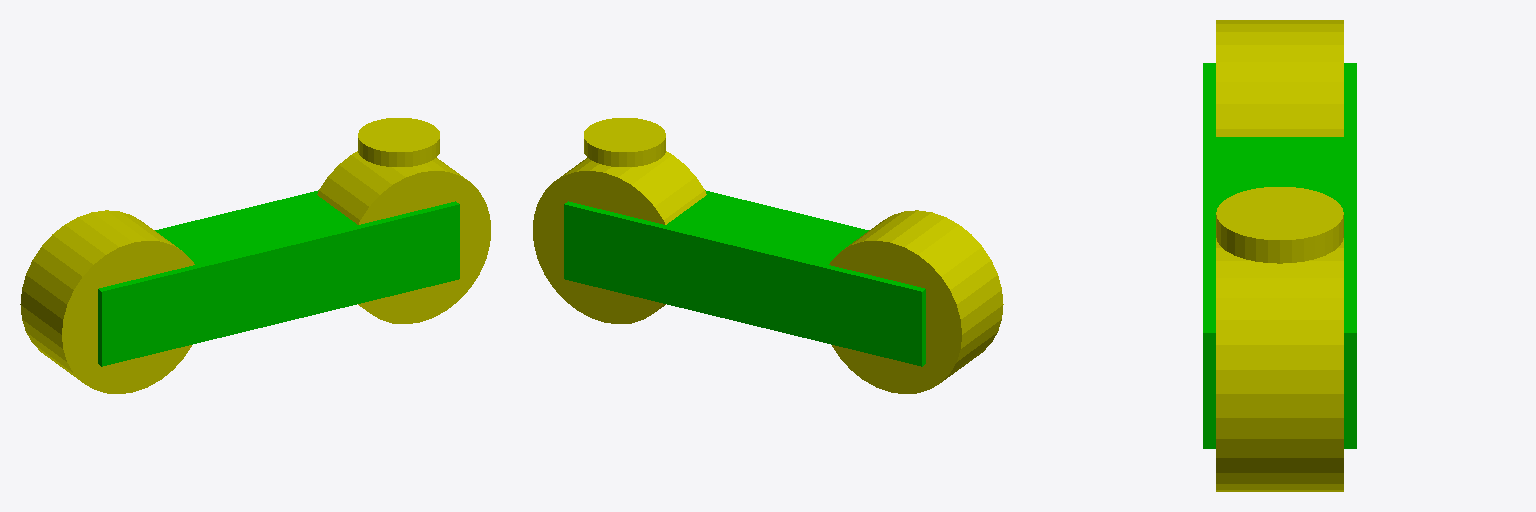
URDF robot description (bicycle_bot):
<?xml version="1.0" encoding="utf-8"?>
<!-- =================================================================================== -->
<!-- |    This document was autogenerated by xacro from [local-path]/github/steerbot_ws/src/steer_bot/steer_bot_description/urdf/bicycle_bot.urdf.xacro | -->
<!-- |    EDITING THIS FILE BY HAND IS NOT RECOMMENDED                                 | -->
<!-- =================================================================================== -->
<!--
  Robot model adapted from https://github.com/CIR-KIT/steer_drive_ros/blob/kinetic-devel/steer_drive_controller/test/common/urdf/steerbot.xacro

  Modifications:
    Remove base_footprint link. Useful for navigation but not necessary for a simple example.
    Added materials for URDF
    Updated inertials

  Geometry:
    The Ackermann steering controllers require the longitudinal
    separation between the front and back wheel axes and the
    lateral separation between the left and right front steering axes.
    
    For this model:
    wheel_separation_h = base_length - 2 * axle_offset = 0.4
    wheel_separation_w = base_width  + 2 * axle_offset = 0.4
-->
<robot name="bicycle_bot">
  <material name="red">
    <color rgba="0.8 0 0 1"/>
  </material>
  <material name="green">
    <color rgba="0 0.8 0 1"/>
  </material>
  <material name="blue">
    <color rgba="0 0 0.8 1"/>
  </material>
  <material name="yellow">
    <color rgba="0.8 0.8 0 1"/>
  </material>
  <material name="orange">
    <color rgba="0.8 0.25 0 1"/>
  </material>
  <material name="black">
    <color rgba="0 0 0 1"/>
  </material>
  <material name="dark_gray">
    <color rgba="0.5 0.5 0.5 1"/>
  </material>
  <material name="gray">
    <color rgba="0.753 0.753 0.753 1"/>
  </material>
  <material name="silver">
    <color rgba="0.88 0.88 0.88 1"/>
  </material>
  <material name="white">
    <color rgba="1 1 1 1"/>
  </material>
  <!-- Gazebo plugins -->
  <gazebo>
    <!-- Load ros_control plugin -->
    <plugin filename="libgazebo_ros_control.so" name="gazebo_ros_control">
      <robotNamespace>/bicycle_bot</robotNamespace>
      <robotSimType>gazebo_ros_control/DefaultRobotHWSim</robotSimType>
      <legacyModeNS>false</legacyModeNS>
    </plugin>
    <!-- Load gazebo_ros plugin. Publish passive (non-actuated) joints from Gazebo -->
    <plugin filename="libgazebo_ros_joint_state_publisher.so" name="gazebo_ros_joint_state_publisher">
      <robotNamespace>/bicycle_bot</robotNamespace>
      <jointName>
            front_wheel_joint
        </jointName>
      <updateRate>50</updateRate>
      <alwaysOn>true</alwaysOn>
    </plugin>
  </gazebo>
  <!-- Base link -->
  <link name="base_link">
    <visual>
      <origin rpy="0 0 0" xyz="0 0 0"/>
      <geometry>
        <box size="0.5 0.12 0.1"/>
      </geometry>
      <material name="green"/>
    </visual>
    <collision>
      <origin rpy="0 0 0" xyz="0 0 0"/>
      <geometry>
        <box size="0.5 0.12 0.1"/>
      </geometry>
    </collision>
    <inertial>
      <origin rpy="0 0 0" xyz="0 0 0"/>
      <mass value="5"/>
      <inertia ixx="0.0101666666667" ixy="0.0" ixz="0.0" iyy="0.108333333333" iyz="0.0" izz="0.110166666667"/>
    </inertial>
  </link>
  <link name="front_steer_link">
    <visual>
      <origin rpy="0 0 0" xyz="0 0 0"/>
      <geometry>
        <cylinder length="0.02" radius="0.05"/>
      </geometry>
      <material name="yellow"/>
    </visual>
    <collision>
      <origin rpy="0 0 0" xyz="0 0 0"/>
      <geometry>
        <cylinder length="0.02" radius="0.05"/>
      </geometry>
    </collision>
    <inertial>
      <origin rpy="0 0 0" xyz="0 0 0"/>
      <mass value="1"/>
      <inertia ixx="0.000658333333333" ixy="0.0" ixz="0.0" iyy="0.000658333333333" iyz="0.0" izz="0.00125"/>
    </inertial>
  </link>
  <joint name="front_steer_joint" type="revolute">
    <parent link="base_link"/>
    <child link="front_steer_link"/>
    <origin rpy="0 0 0" xyz="0.2 0 0.12"/>
    <axis xyz="0 0 1"/>
    <limit effort="10.0" lower="-3.14159265359" upper="3.14159265359" velocity="5.0"/>
  </joint>
  <transmission name="front_steer_joint_trans">
    <type>transmission_interface/SimpleTransmission</type>
    <actuator name="front_steer_joint_motor">
      <mechanicalReduction>1</mechanicalReduction>
      <hardwareInterface>hardware_interface/PositionJointInterface</hardwareInterface>
    </actuator>
    <joint name="front_steer_joint">
      <hardwareInterface>hardware_interface/PositionJointInterface</hardwareInterface>
    </joint>
  </transmission>
  <gazebo reference="front_steer_link">
    <material>Gazebo/Yellow</material>
  </gazebo>
  <link name="front_wheel_link">
    <visual>
      <origin rpy="0 0 0" xyz="0 0 0"/>
      <geometry>
        <cylinder length="0.1" radius="0.1"/>
      </geometry>
      <material name="yellow"/>
    </visual>
    <collision>
      <origin rpy="0 0 0" xyz="0 0 0"/>
      <geometry>
        <cylinder length="0.1" radius="0.1"/>
      </geometry>
    </collision>
    <inertial>
      <origin rpy="0 0 0" xyz="0 0 0"/>
      <mass value="1"/>
      <inertia ixx="0.00333333333333" ixy="0.0" ixz="0.0" iyy="0.00333333333333" iyz="0.0" izz="0.005"/>
    </inertial>
  </link>
  <joint name="front_wheel_joint" type="continuous">
    <parent link="front_steer_link"/>
    <child link="front_wheel_link"/>
    <origin rpy="-1.57079632679 0 0" xyz="0 0 -0.12"/>
    <axis xyz="0 0 1"/>
  </joint>
  <gazebo reference="front_wheel_link">
    <material>Gazebo/Yellow</material>
  </gazebo>
  <gazebo reference="front_wheel_joint">
    <provideFeedback>true</provideFeedback>
  </gazebo>
  <link name="rear_wheel_link">
    <visual>
      <origin rpy="0 0 0" xyz="0 0 0"/>
      <geometry>
        <cylinder length="0.1" radius="0.1"/>
      </geometry>
      <material name="yellow"/>
    </visual>
    <collision>
      <origin rpy="0 0 0" xyz="0 0 0"/>
      <geometry>
        <cylinder length="0.1" radius="0.1"/>
      </geometry>
    </collision>
    <inertial>
      <origin rpy="0 0 0" xyz="0 0 0"/>
      <mass value="1"/>
      <inertia ixx="0.00333333333333" ixy="0.0" ixz="0.0" iyy="0.00333333333333" iyz="0.0" izz="0.005"/>
    </inertial>
  </link>
  <joint name="rear_wheel_joint" type="continuous">
    <parent link="base_link"/>
    <child link="rear_wheel_link"/>
    <origin rpy="-1.57079632679 0 0" xyz="-0.2 0 0"/>
    <axis xyz="0 0 1"/>
  </joint>
  <transmission name="rear_wheel_joint_trans">
    <type>transmission_interface/SimpleTransmission</type>
    <actuator name="rear_wheel_joint_motor">
      <mechanicalReduction>1</mechanicalReduction>
      <hardwareInterface>hardware_interface/VelocityJointInterface</hardwareInterface>
    </actuator>
    <joint name="rear_wheel_joint">
      <hardwareInterface>hardware_interface/VelocityJointInterface</hardwareInterface>
    </joint>
  </transmission>
  <gazebo reference="rear_wheel_link">
    <material>Gazebo/Yellow</material>
  </gazebo>
  <!-- Colour -->
  <gazebo reference="base_link">
    <material>Gazebo/Green</material>
  </gazebo>
</robot>

--- Render facts (derived) ---
The picture shows the robot from 3 angles, left to right: view 1: azimuth 30°, elevation 25°; view 2: azimuth 150°, elevation 25°; view 3: azimuth 270°, elevation 25°; orthographic projection.
Model bicycle_bot with 4 links and 3 joints (1 revolute, 2 continuous), rooted at base_link, posed all joints at 0.
Visible links, largest first — view 1: base_link, rear_wheel_link, front_wheel_link, front_steer_link; view 2: base_link, rear_wheel_link, front_wheel_link, front_steer_link; view 3: front_wheel_link, base_link, rear_wheel_link, front_steer_link.
Link boxes in pixels (x1=…): base_link: x1=98, y1=190, x2=459, y2=366; rear_wheel_link: x1=20, y1=210, x2=194, y2=393; front_wheel_link: x1=317, y1=151, x2=490, y2=323; front_steer_link: x1=358, y1=118, x2=439, y2=166; base_link: x1=564, y1=190, x2=925, y2=366; rear_wheel_link: x1=829, y1=210, x2=1003, y2=393; front_wheel_link: x1=533, y1=151, x2=706, y2=323; front_steer_link: x1=584, y1=118, x2=665, y2=166; front_wheel_link: x1=1216, y1=238, x2=1343, y2=491; base_link: x1=1203, y1=63, x2=1356, y2=448; rear_wheel_link: x1=1216, y1=20, x2=1343, y2=136; front_steer_link: x1=1216, y1=187, x2=1343, y2=263.
Size in the robot's own frame: 0.6 by 0.12 by 0.23 metres.
Geometry: primitives only (box / cylinder / sphere), no mesh files.